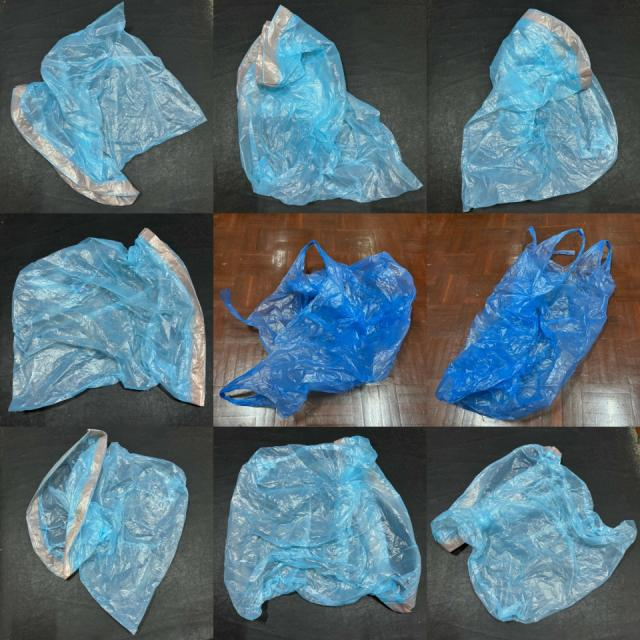Single-layer Plastic: (11, 4, 206, 204), (431, 444, 636, 623), (238, 6, 421, 205), (224, 436, 421, 619), (9, 229, 205, 411), (220, 240, 416, 418), (436, 228, 615, 419), (26, 430, 189, 633), (461, 10, 618, 211)
